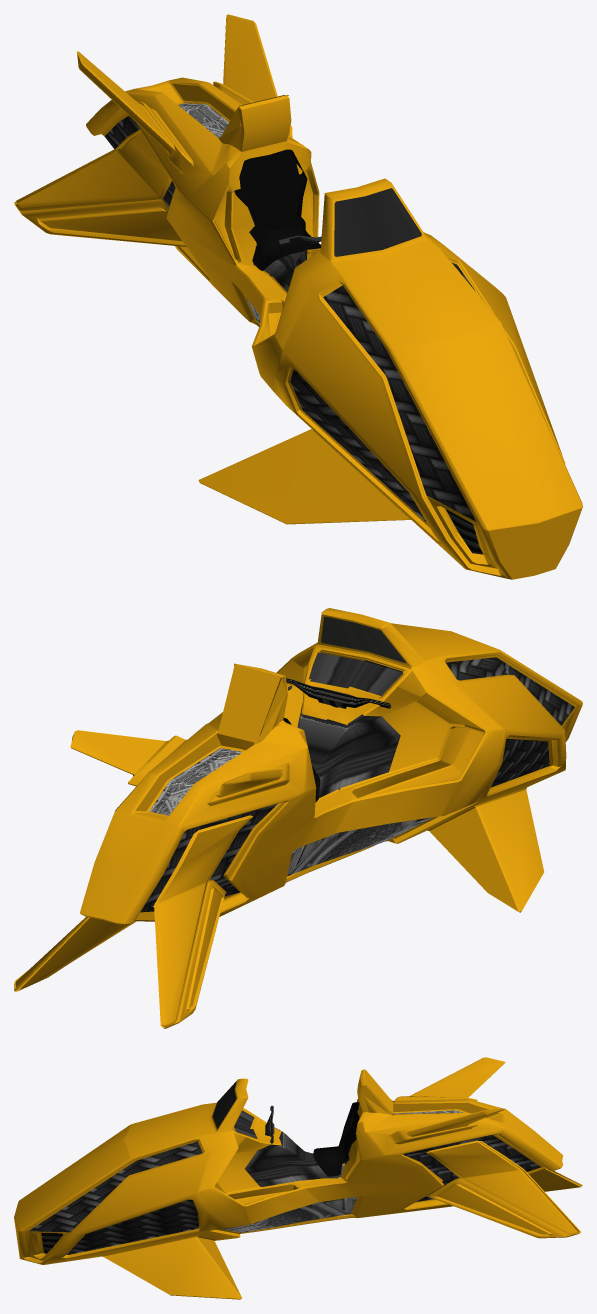
Rendered from MediumRacer.fbx.
3 renders of one model, top to bottom at view 1: azimuth 30°, elevation 25°; view 2: azimuth 150°, elevation 25°; view 3: azimuth 270°, elevation 25°, orthographic. The views are drawn at different scales.
Visible parts, largest first — view 1: hover_bike_1_Cube.002; view 2: hover_bike_1_Cube.002; view 3: hover_bike_1_Cube.002.
Boxes of the visible parts, <box> form: hover_bike_1_Cube.002: <box>14,14,582,579</box>; hover_bike_1_Cube.002: <box>14,608,582,1028</box>; hover_bike_1_Cube.002: <box>14,1057,582,1299</box>.
Bounding box in the file's own units: 261 × 217 × 624.
Materials: 8 (7 with a texture image).
